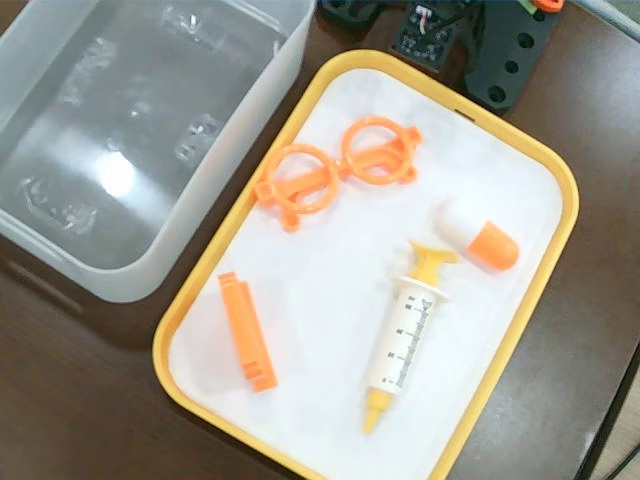pill: (434, 200, 521, 273)
syringe: (361, 239, 457, 435)
